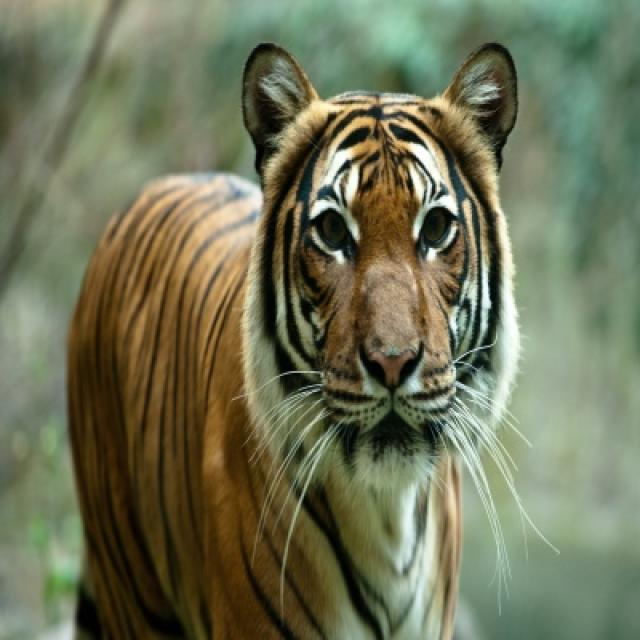Tiger: (52, 43, 521, 638)
